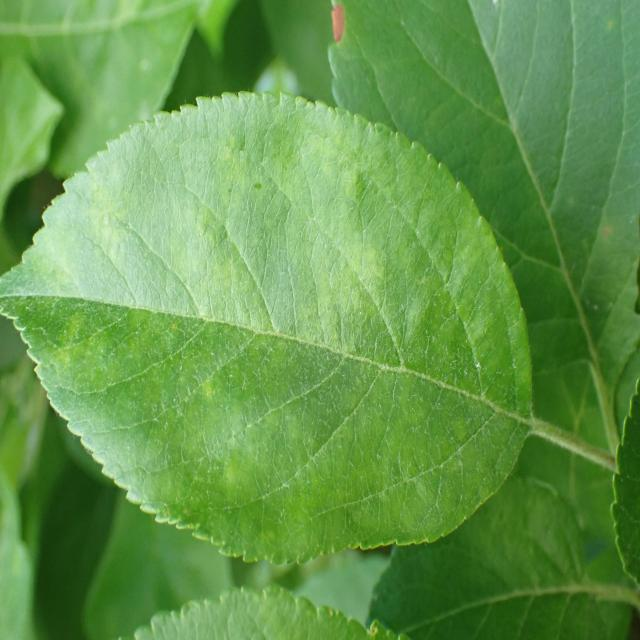scab: (40, 125, 532, 528)
